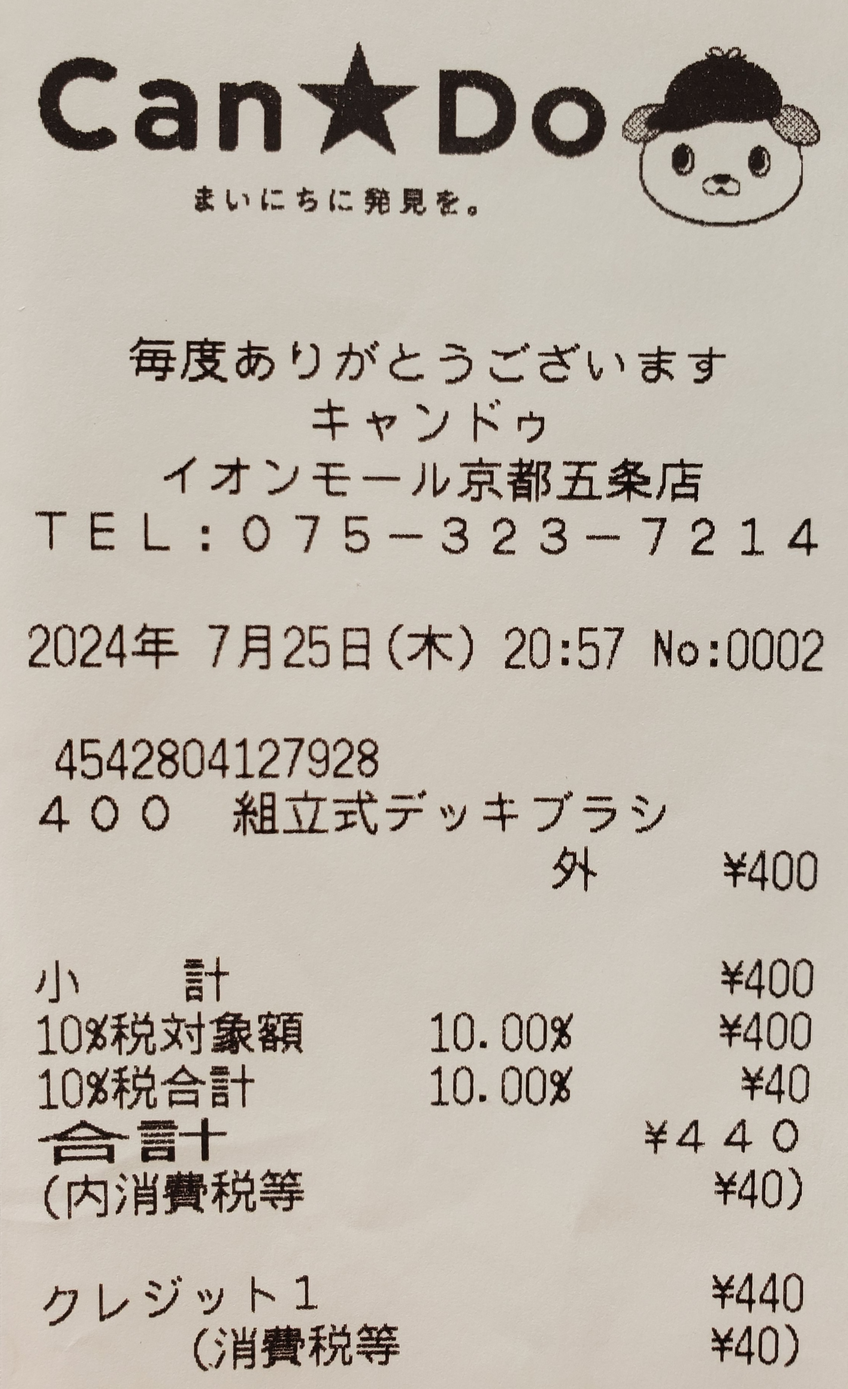Date: (22, 606, 385, 678)
Shopname: (33, 32, 620, 172)
Telnum: (228, 504, 837, 572)
Totalpay: (39, 1115, 827, 1167)
